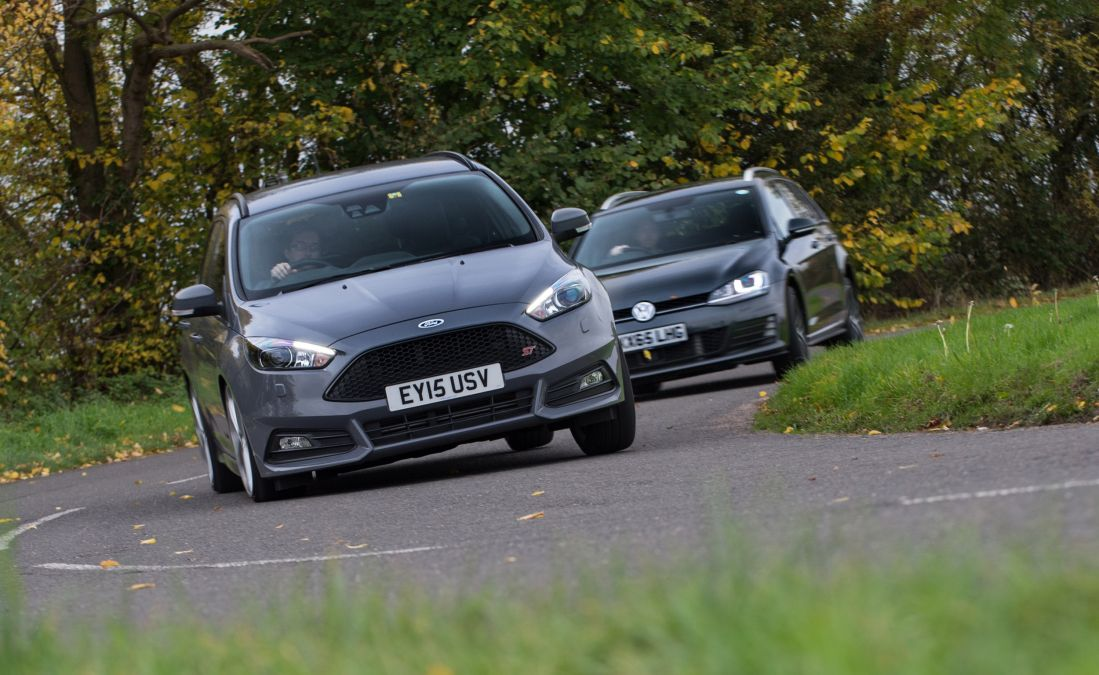car: (176, 150, 635, 507), (572, 167, 858, 388)
